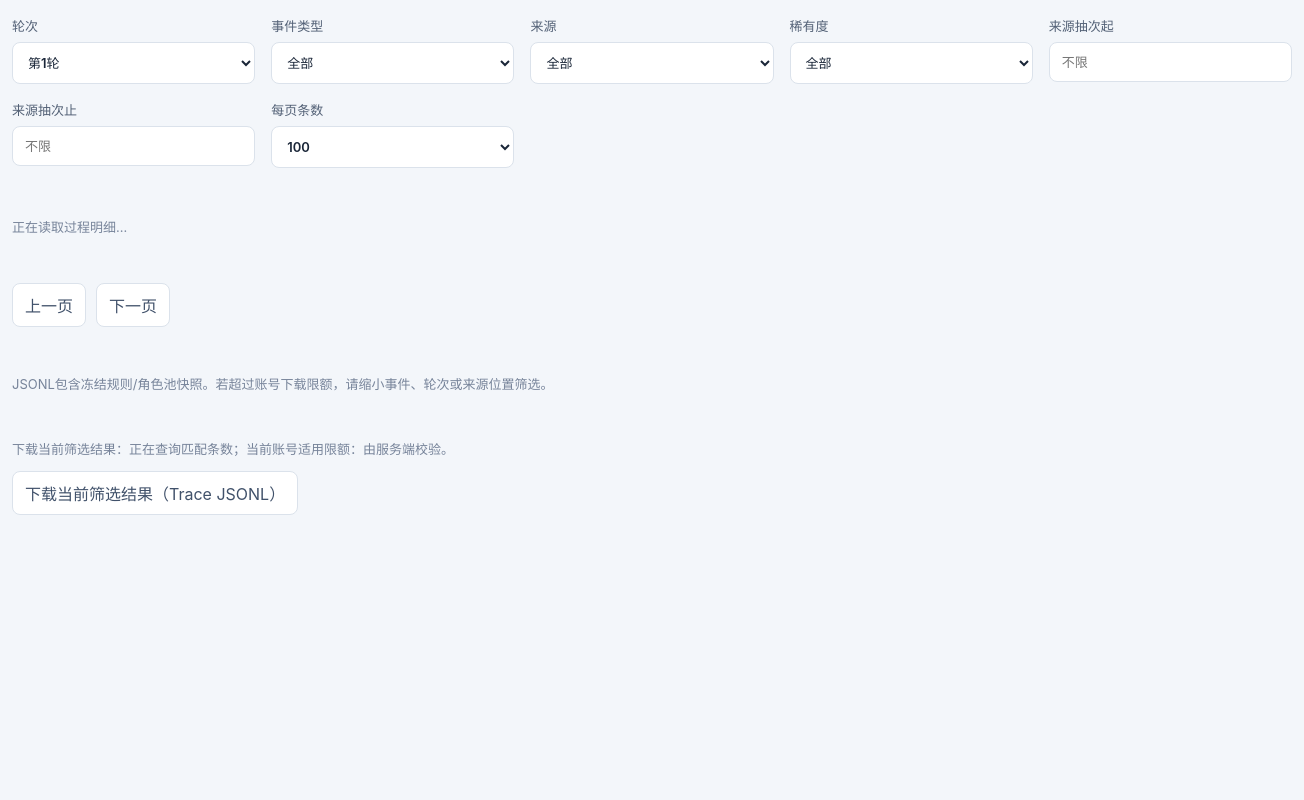
Scenario: renders grants without draw-only data and hides source position filters
Select "SSR" in the dropdown labelled "稀有度" at (911, 63), box [790,42,1033,84]
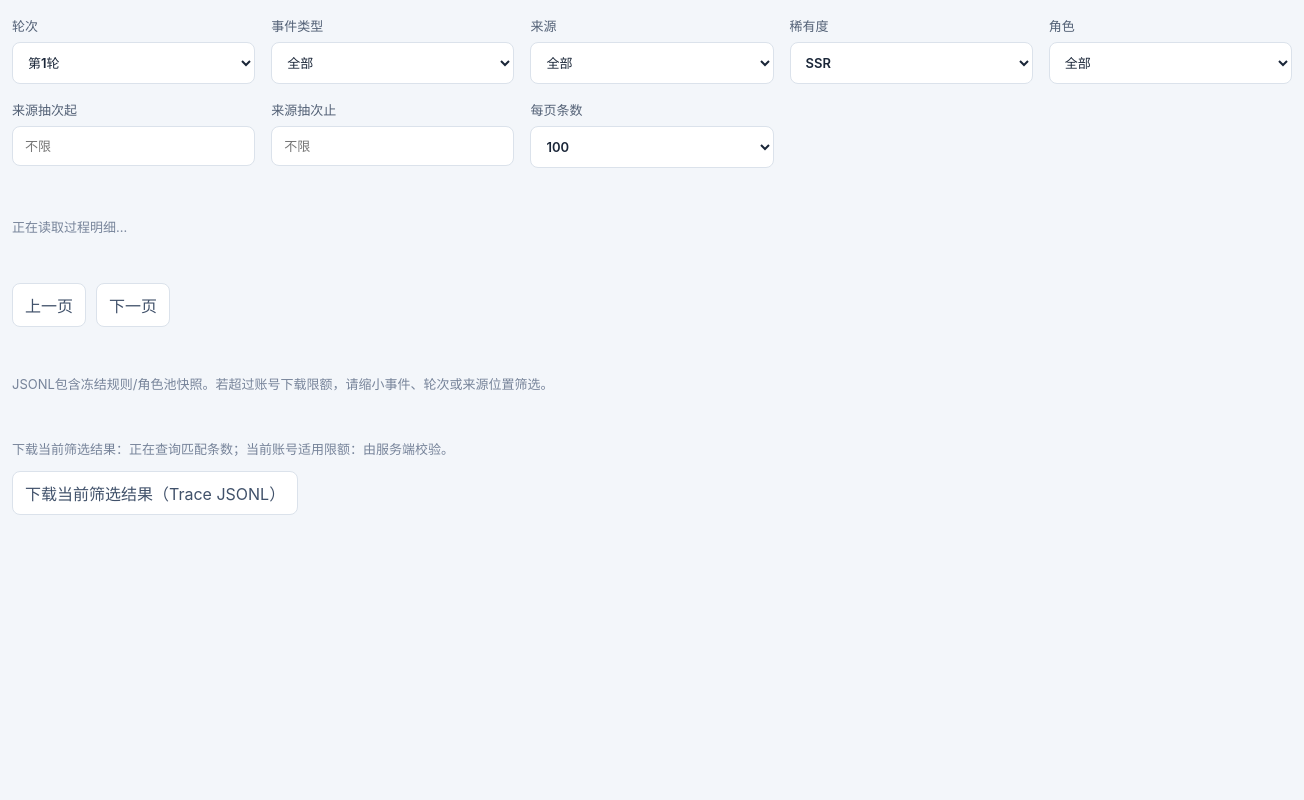
Select "赠送池抽取" in the dropdown labelled "来源" at (652, 63), box [530,42,774,84]
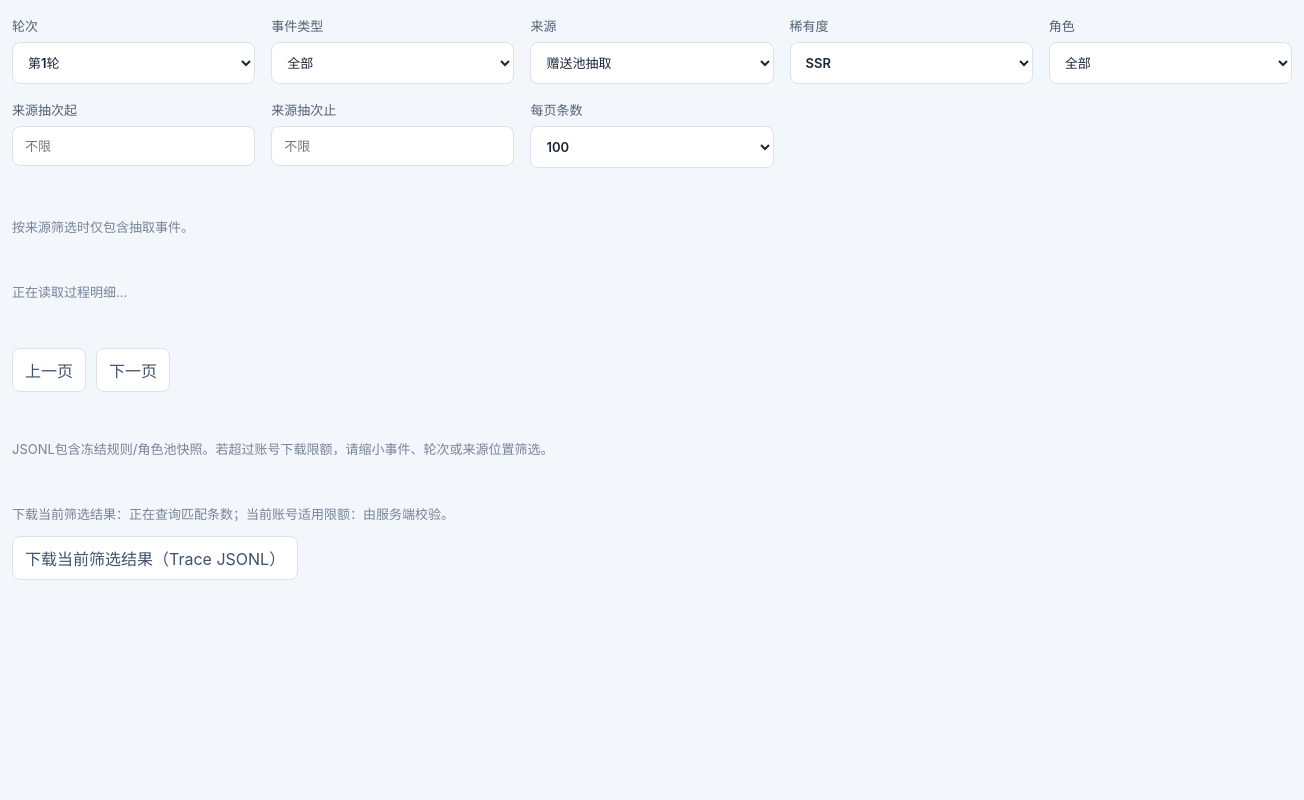
Type "5" into the field labelled "来源抽次起".
click(134, 146); type("5")  # box [12,126,255,166]
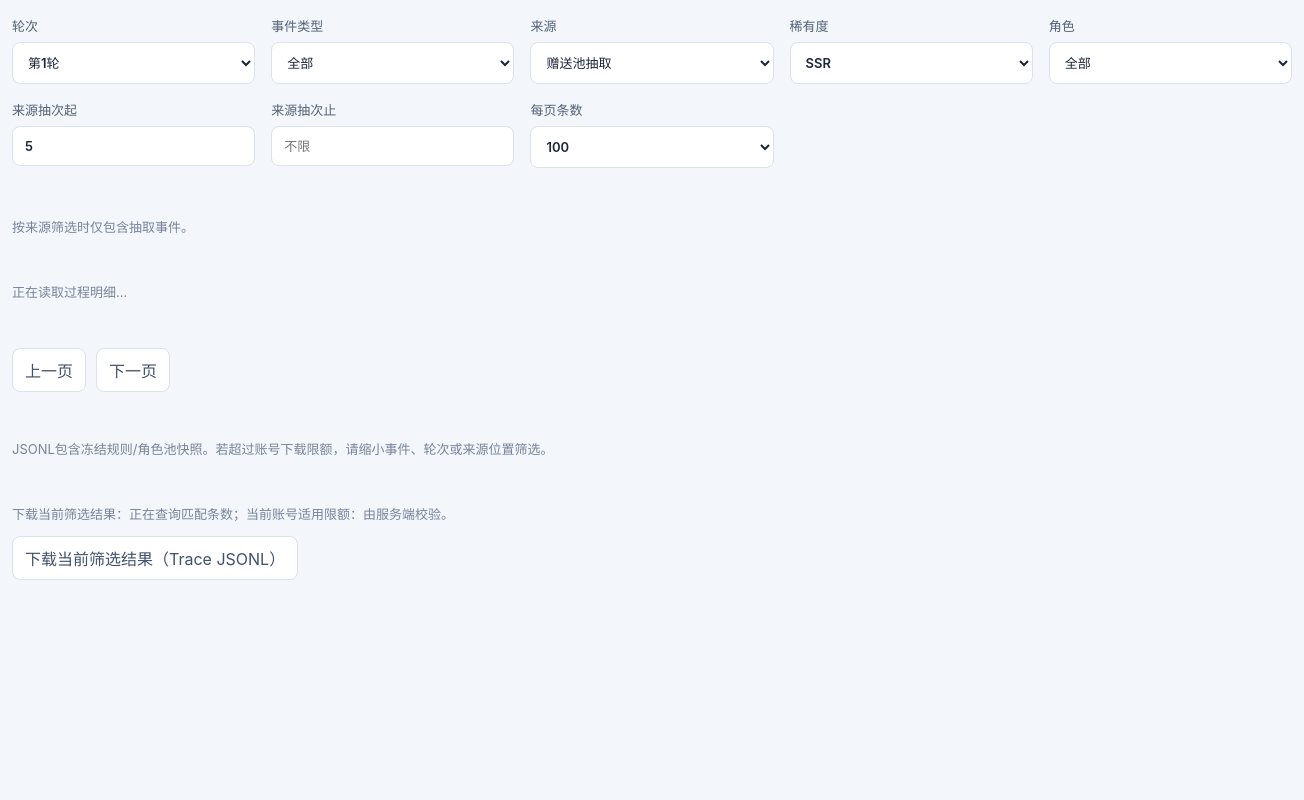
Select "角色直接赠送" in the dropdown labelled "事件类型" at (393, 63), box [271,42,514,84]
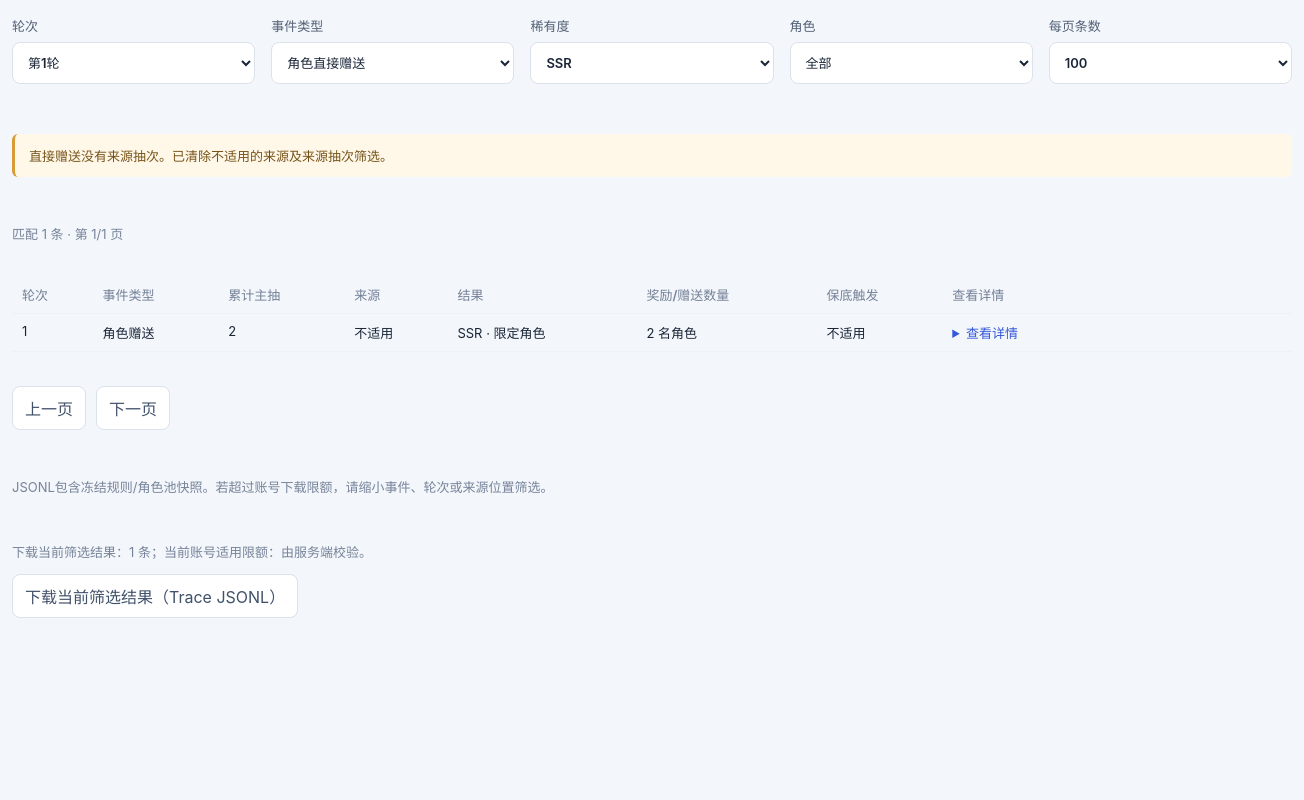
Expected: the text "角色赠送" is shown, [92,314,218,352]
Expected: the text "2" is shown, [218,314,344,352]
Expected: the 1st text "不适用" is shown, [344,314,448,352]
